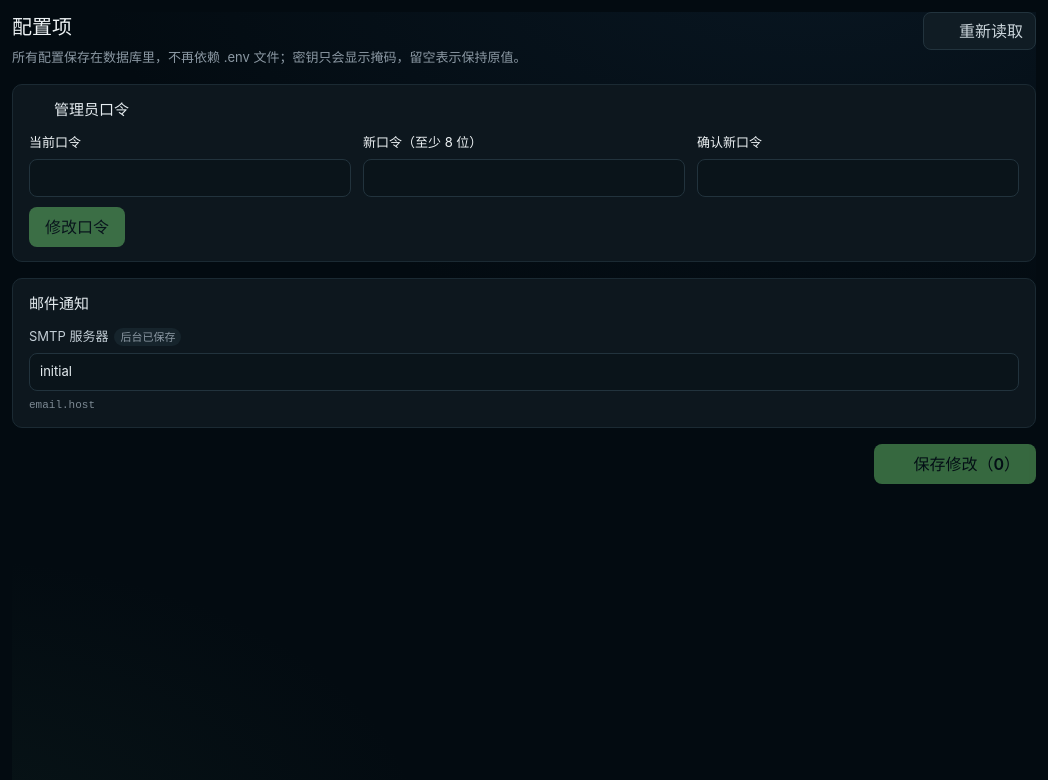
Scenario: SettingsCenterView request lifecycle › preserves an edited draft when a refresh is cancelled by a failed save
Replace the text in the field labelled "SMTP 服务器 后台已保存 email.host" with "new-host". click: {"x": 524, "y": 372}
box: x1=29 y1=352 x2=1019 y2=390
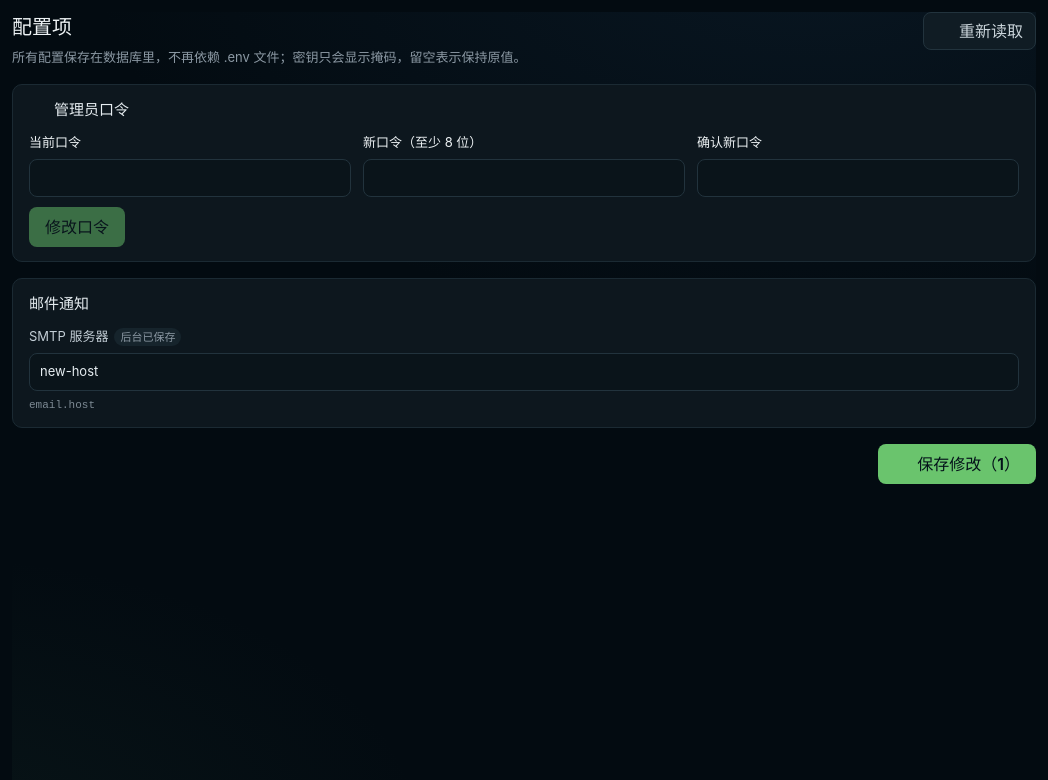
Click the button "重新读取". click: {"x": 980, "y": 31}
box: x1=923 y1=12 x2=1036 y2=50
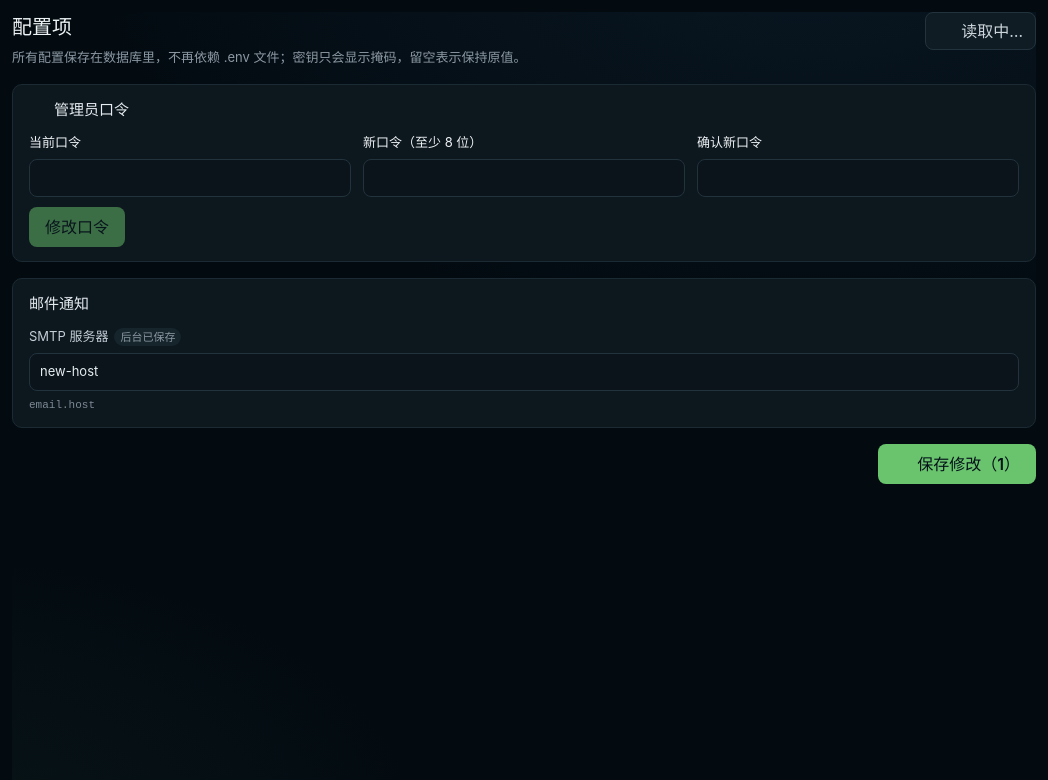
Click the button "保存修改（1）". click: {"x": 957, "y": 464}
box: x1=878 y1=444 x2=1036 y2=484
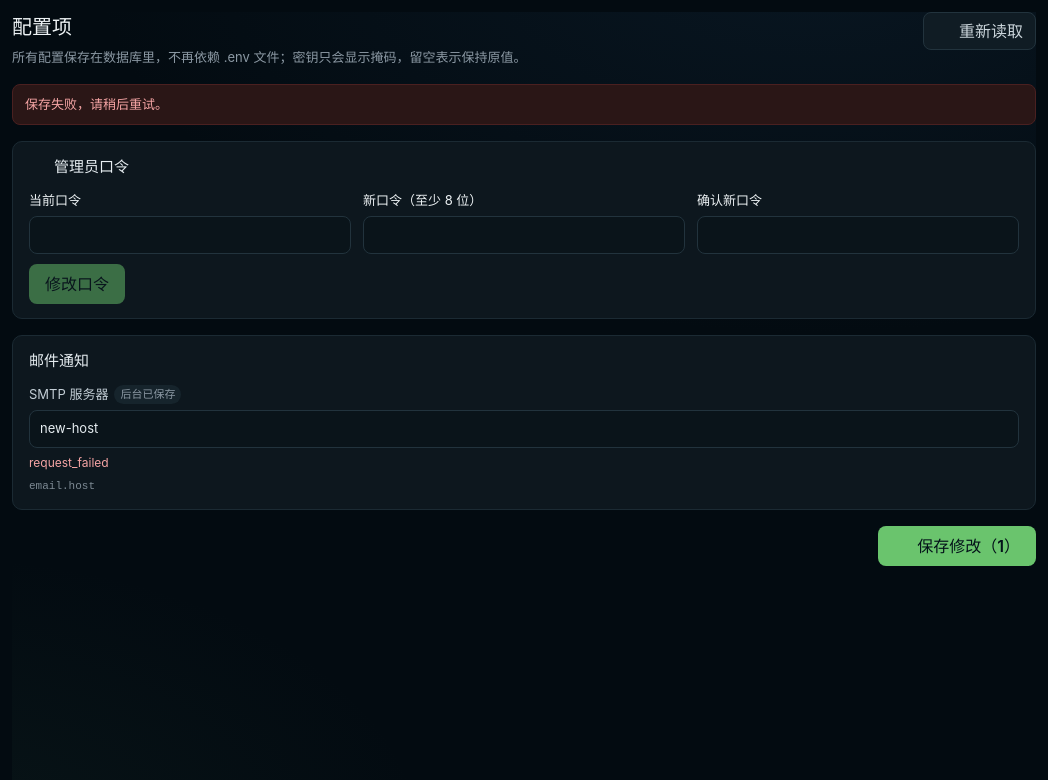
Expected: the text "保存失败，请稍后重试。" is shown, x1=12 y1=84 x2=1036 y2=125
